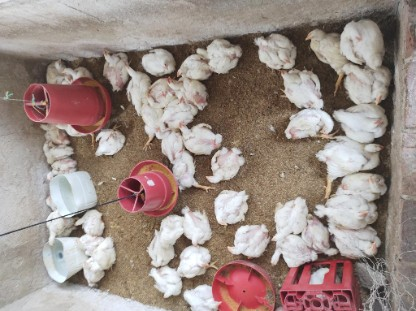Pollos: (296, 22, 357, 82), (272, 68, 326, 112), (345, 16, 390, 66), (266, 197, 314, 243), (343, 62, 395, 104), (247, 28, 299, 70), (323, 136, 386, 170), (334, 102, 388, 138), (225, 224, 279, 259), (198, 33, 243, 75), (282, 107, 333, 142), (269, 234, 321, 268), (337, 221, 386, 256), (323, 196, 381, 224), (340, 167, 390, 199), (212, 185, 251, 226), (206, 145, 248, 183), (298, 216, 341, 253), (169, 244, 214, 278), (85, 233, 118, 274), (35, 209, 68, 248), (70, 202, 106, 237), (95, 120, 129, 157), (183, 209, 216, 247), (177, 118, 216, 150), (167, 150, 199, 188), (141, 236, 178, 268), (148, 264, 180, 300), (102, 42, 129, 84), (167, 77, 207, 105), (306, 264, 349, 288), (148, 38, 175, 76), (121, 65, 152, 98), (40, 156, 78, 182), (155, 215, 187, 245), (184, 283, 218, 311), (31, 142, 75, 162), (175, 55, 212, 78), (78, 258, 104, 289), (39, 120, 71, 145), (137, 107, 163, 136), (42, 53, 65, 85), (173, 98, 199, 122), (64, 61, 93, 82), (151, 128, 176, 145), (145, 83, 170, 97), (42, 194, 56, 206)
